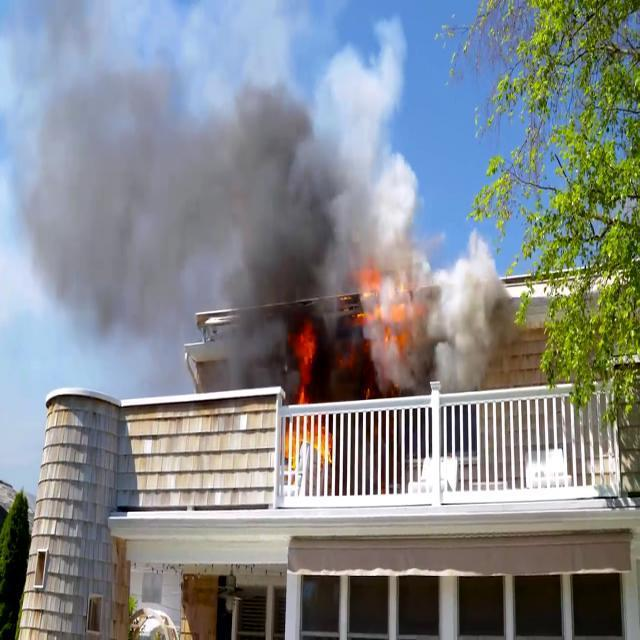Smoke: (22, 32, 440, 407), (361, 218, 530, 387)
